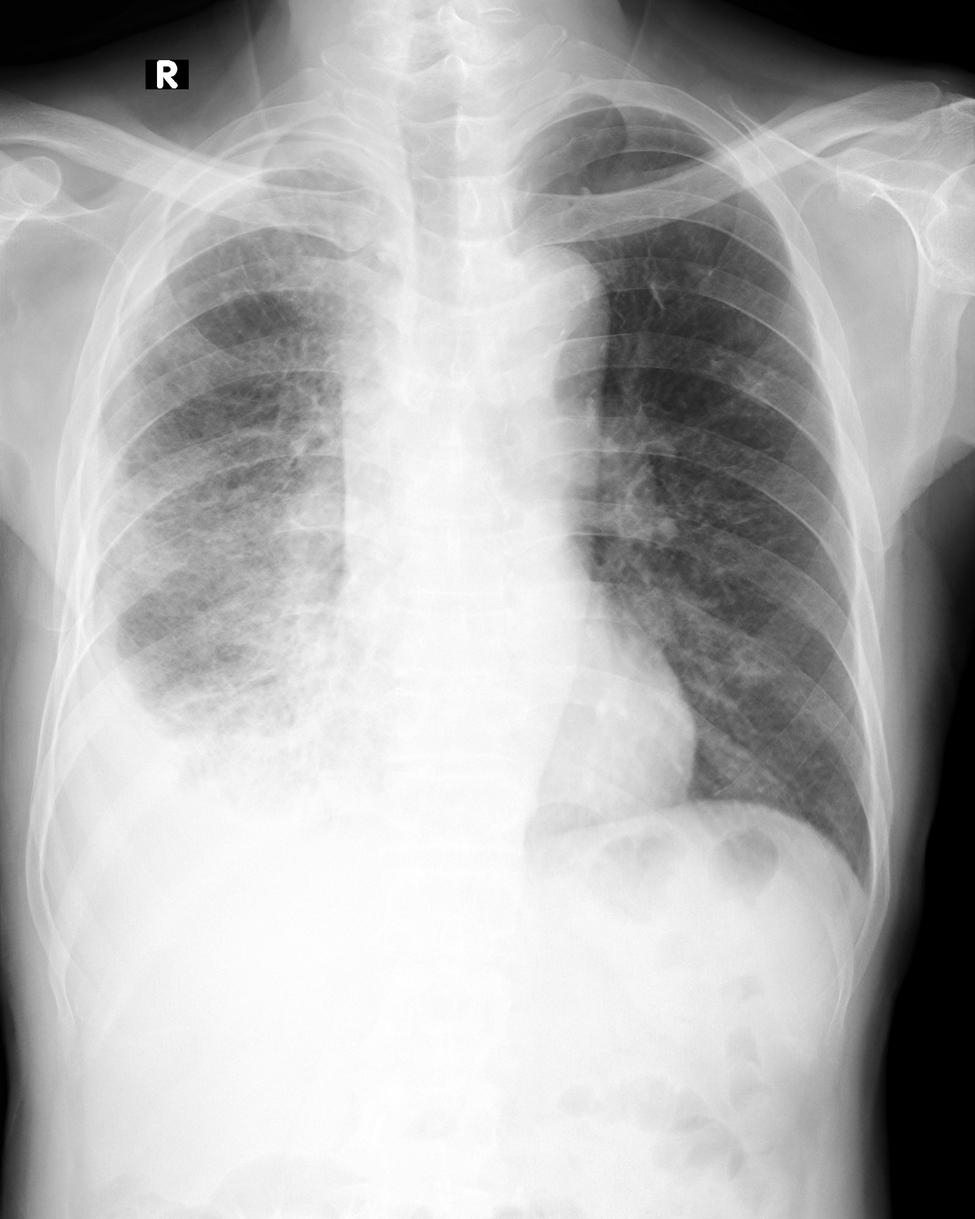Aortic enlargement: (463, 250, 611, 445)
Pleural thickening: (117, 114, 339, 342)
Pulmonary fibrosis: (229, 354, 327, 469), (207, 224, 308, 331), (593, 213, 680, 328), (707, 339, 777, 411)
